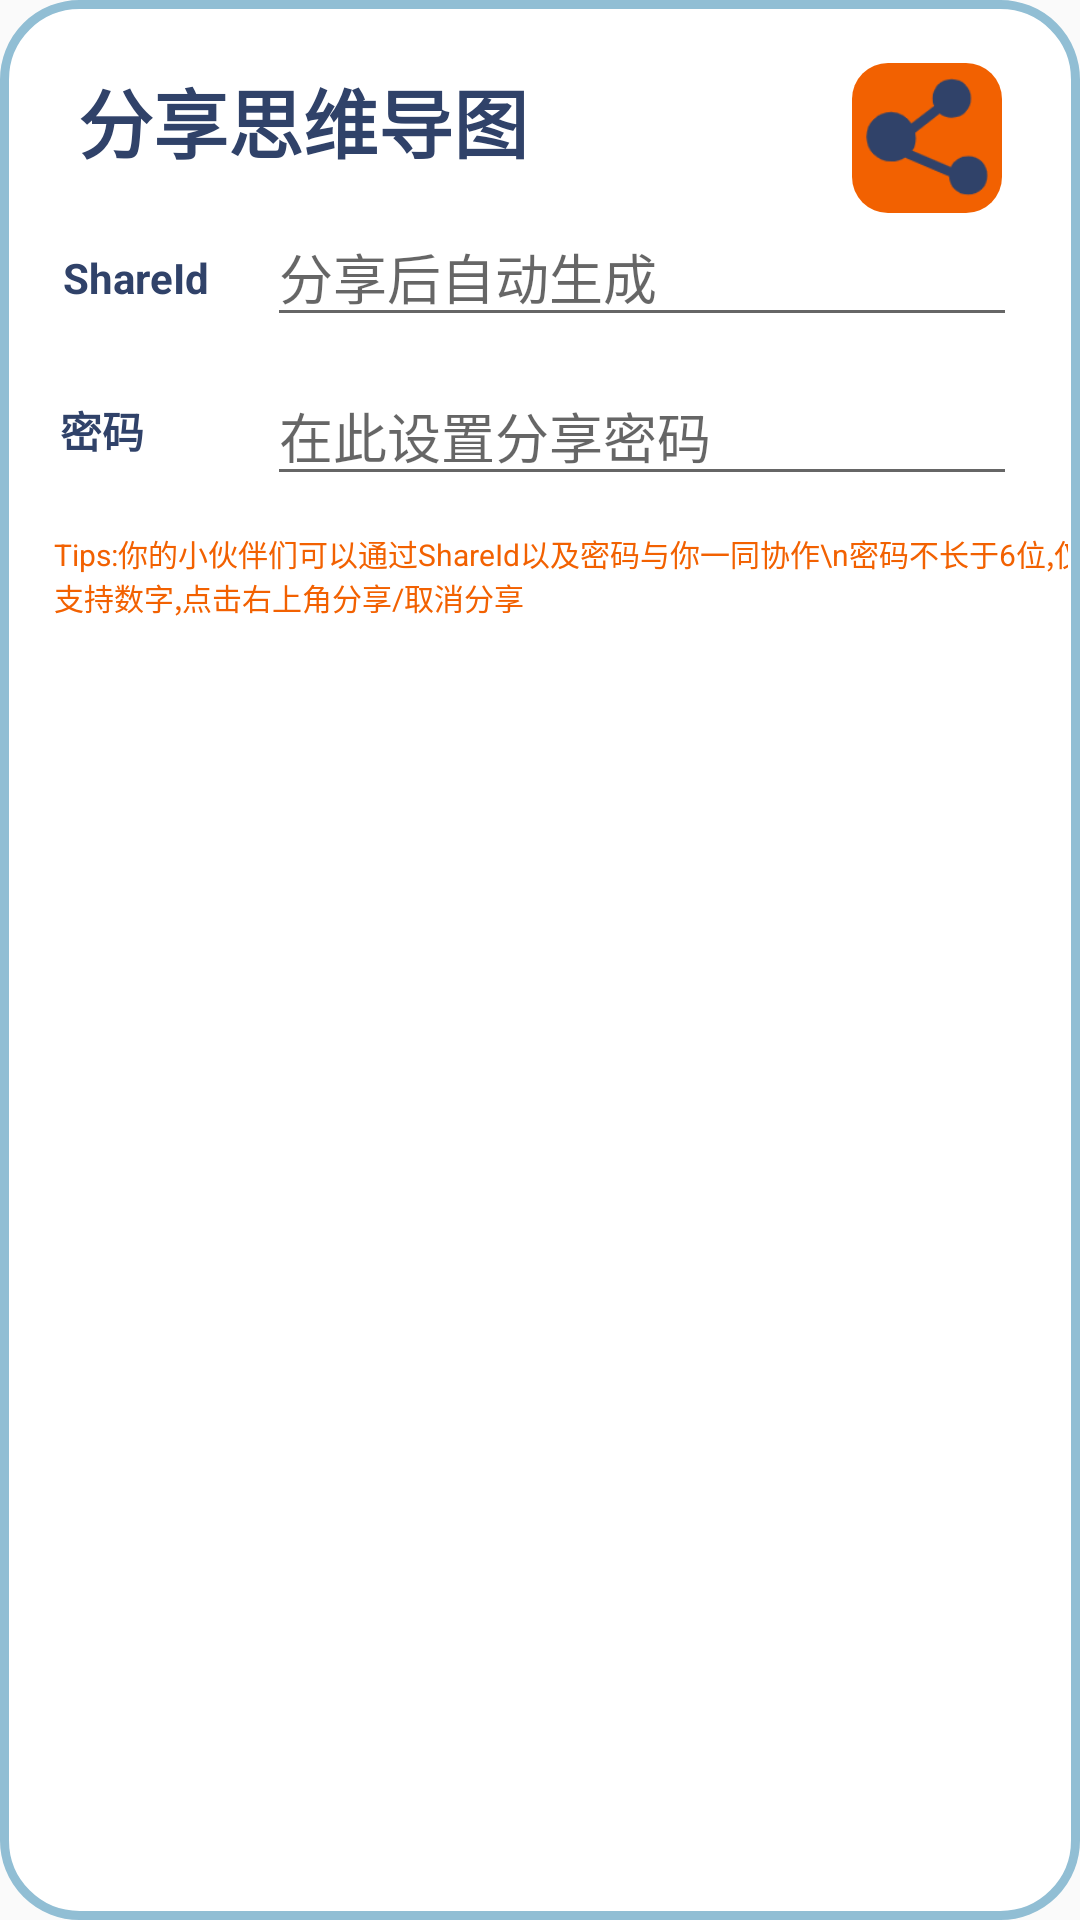

Icon bounding boxes for this 1080px x 1920px phone screenshot, format (x1, y1, x2, y2):
share mm: (852, 63, 1002, 213)
